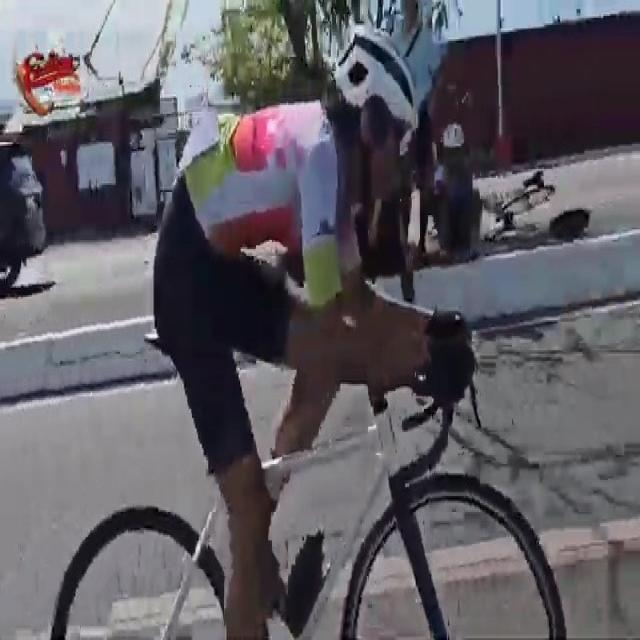bike: (39, 21, 571, 640)
car: (0, 132, 47, 300)
